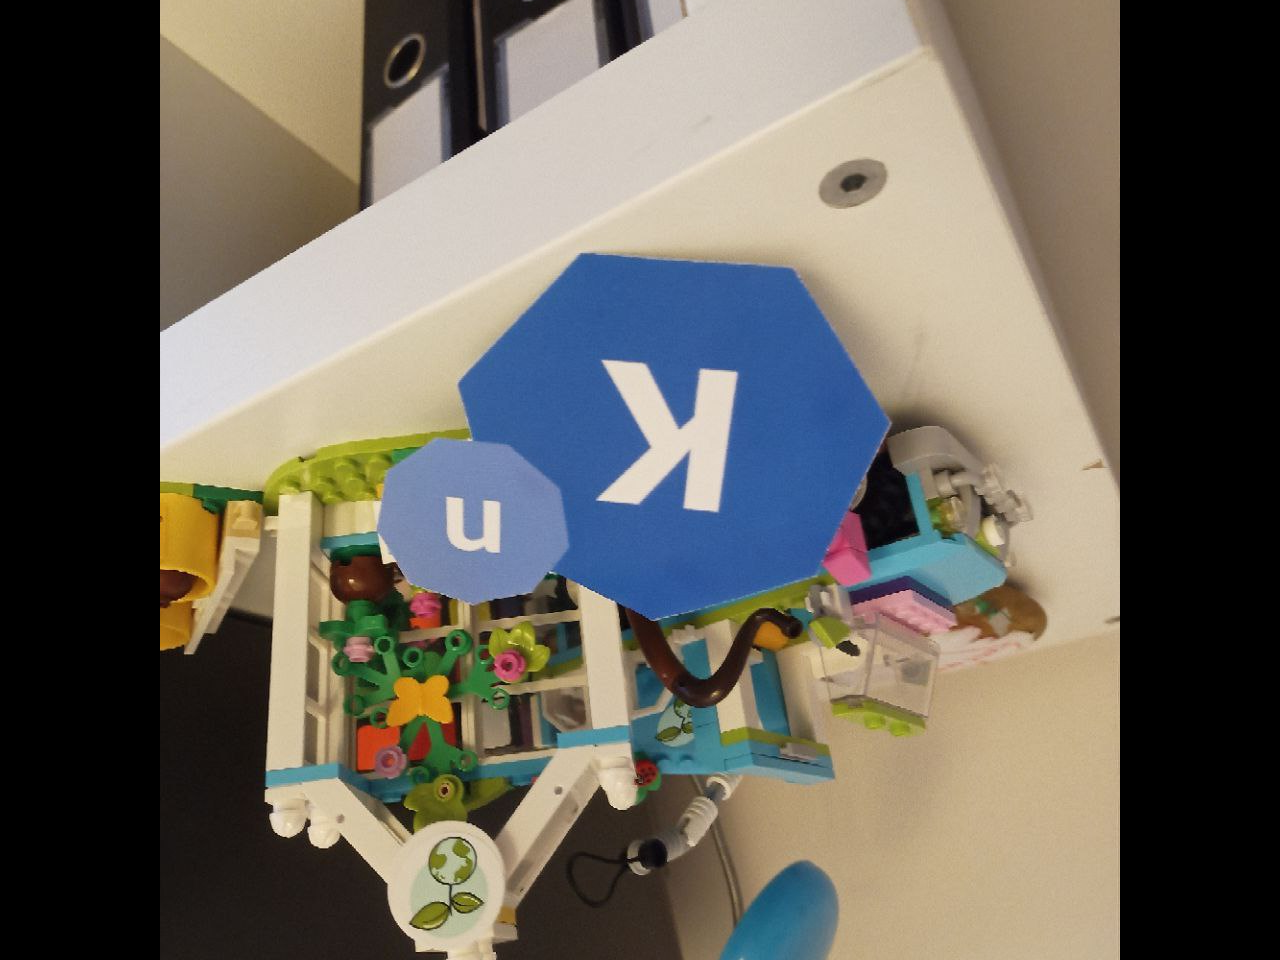knative: (377, 256, 890, 624)
